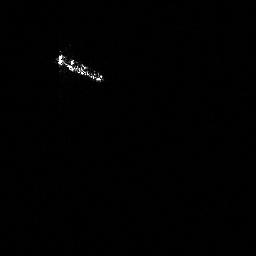ship: (50, 48, 107, 86)
